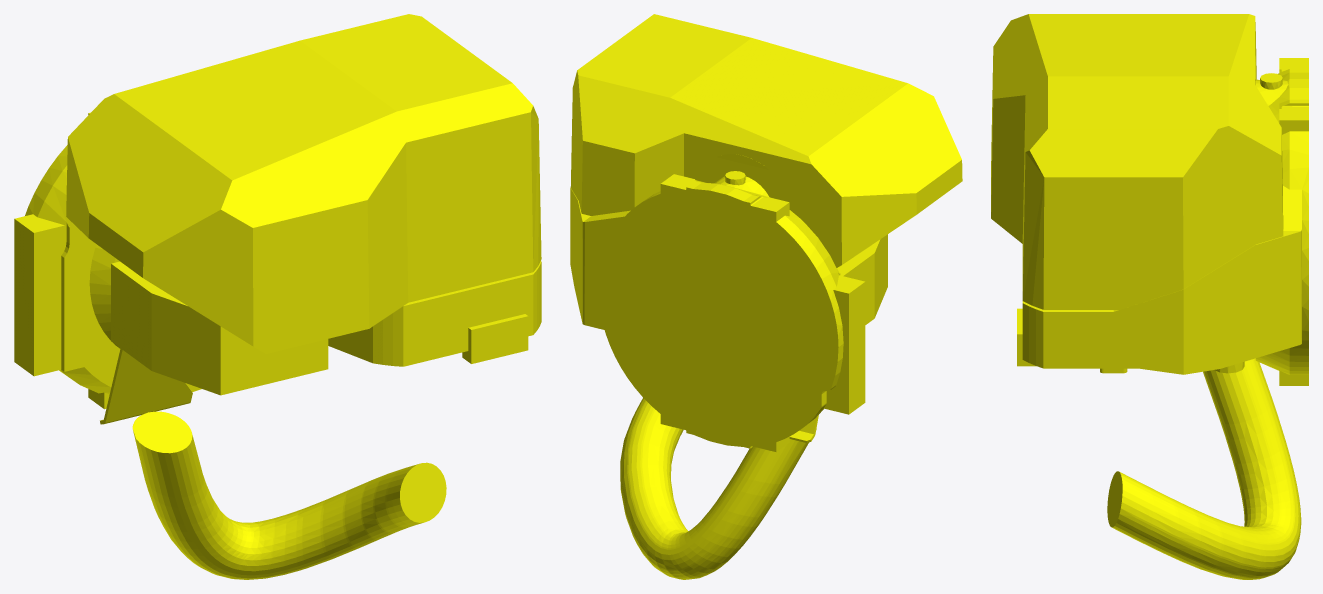
3 renders of one model, left to right at view 1: azimuth 30°, elevation 25°; view 2: azimuth 150°, elevation 25°; view 3: azimuth 270°, elevation 25°, orthographic. The views are drawn at different scales.
Parts seen in each view (by area): view 1: node; view 2: node; view 3: node.
Part boxes in pixels (x1=…): node: x1=14, y1=14, x2=541, y2=579; node: x1=570, y1=14, x2=962, y2=579; node: x1=991, y1=14, x2=1308, y2=579.
Size of the model in its own units: 374 by 493 by 280.
